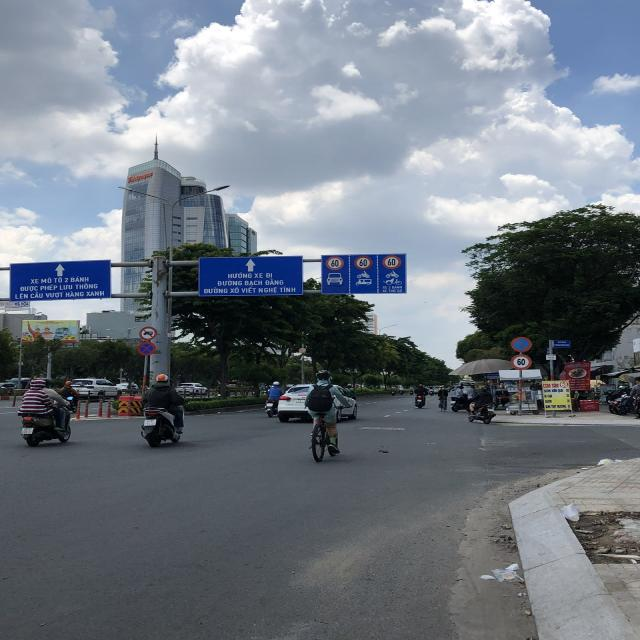Bien bao cam dung xe va do xe: (138, 341, 158, 357)
Bien bao cam xe oto tai: (138, 325, 157, 341)
Bien bao toc do toi da cho phep: (510, 354, 534, 372), (353, 253, 376, 270), (381, 254, 403, 270), (326, 255, 346, 271)
